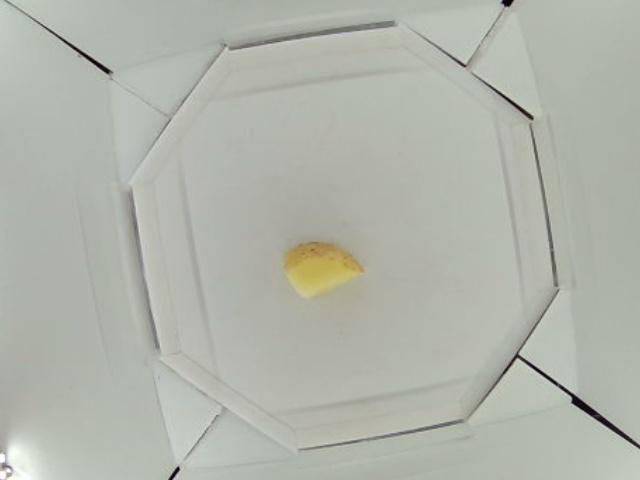Potato: (284, 243, 364, 294)
